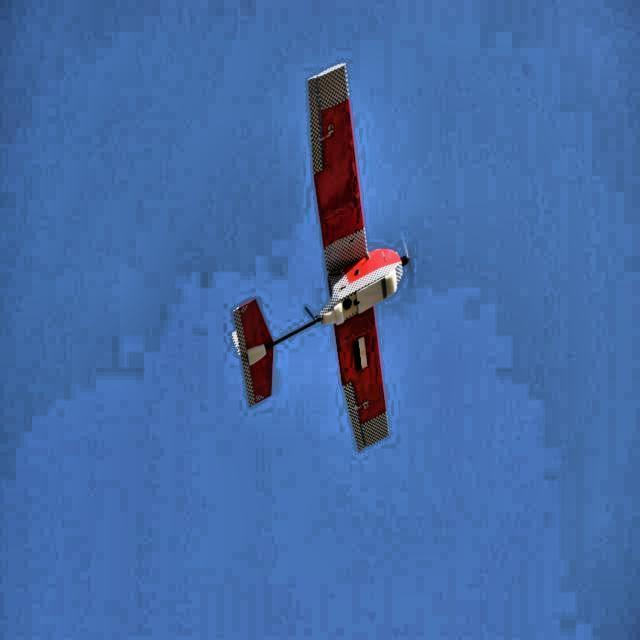iha: (221, 55, 415, 461)
